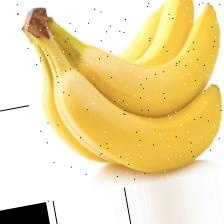banana: (47, 30, 221, 208)
